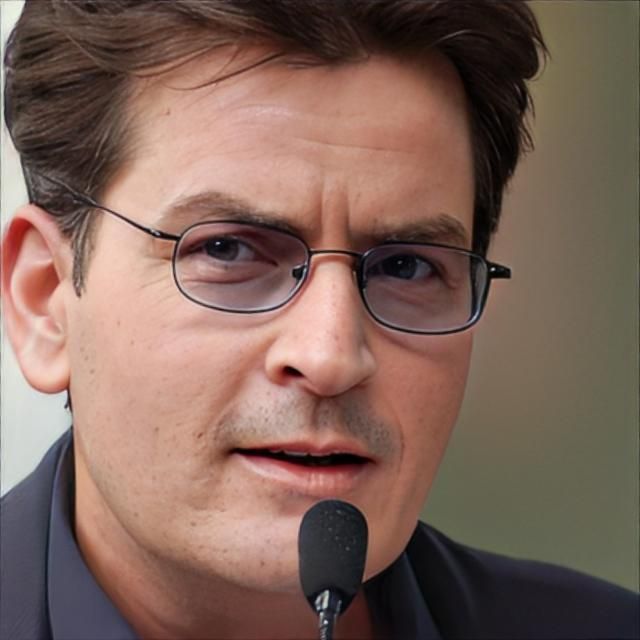anger: (84, 49, 478, 606)
